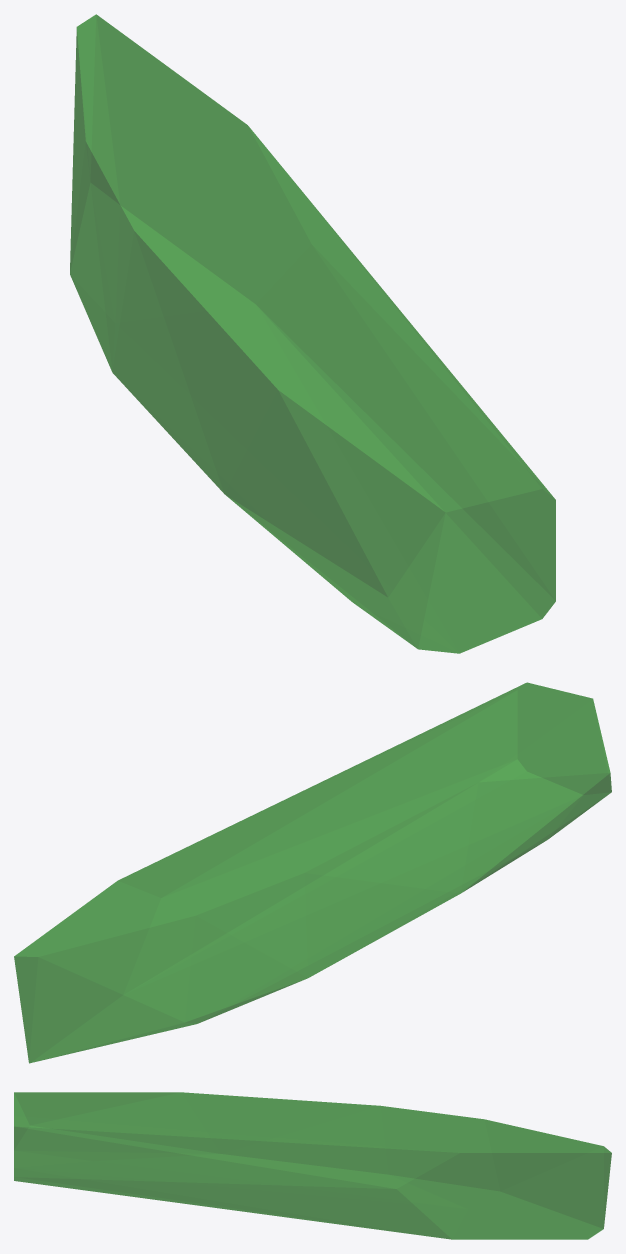
3 renders of one model, top to bottom at view 1: azimuth 30°, elevation 25°; view 2: azimuth 150°, elevation 25°; view 3: azimuth 270°, elevation 25°, orthographic. The views are drawn at different scales.
Visible parts, largest first — view 1: Shape_IndexedFaceSet.015_Shape_IndexedFaceSet.6278; view 2: Shape_IndexedFaceSet.015_Shape_IndexedFaceSet.6278; view 3: Shape_IndexedFaceSet.015_Shape_IndexedFaceSet.6278.
Part boxes in pixels (x1,y1,x2,y2): Shape_IndexedFaceSet.015_Shape_IndexedFaceSet.6278: (70, 14, 555, 653); Shape_IndexedFaceSet.015_Shape_IndexedFaceSet.6278: (14, 682, 611, 1063); Shape_IndexedFaceSet.015_Shape_IndexedFaceSet.6278: (14, 1092, 611, 1239).
Size of the model in its own units: 0.0499 by 0.0285 by 0.1782.
